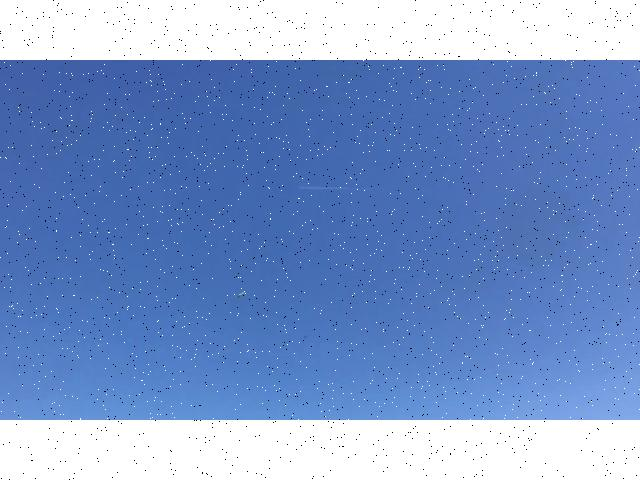Anti-Drone: (226, 288, 260, 306)
